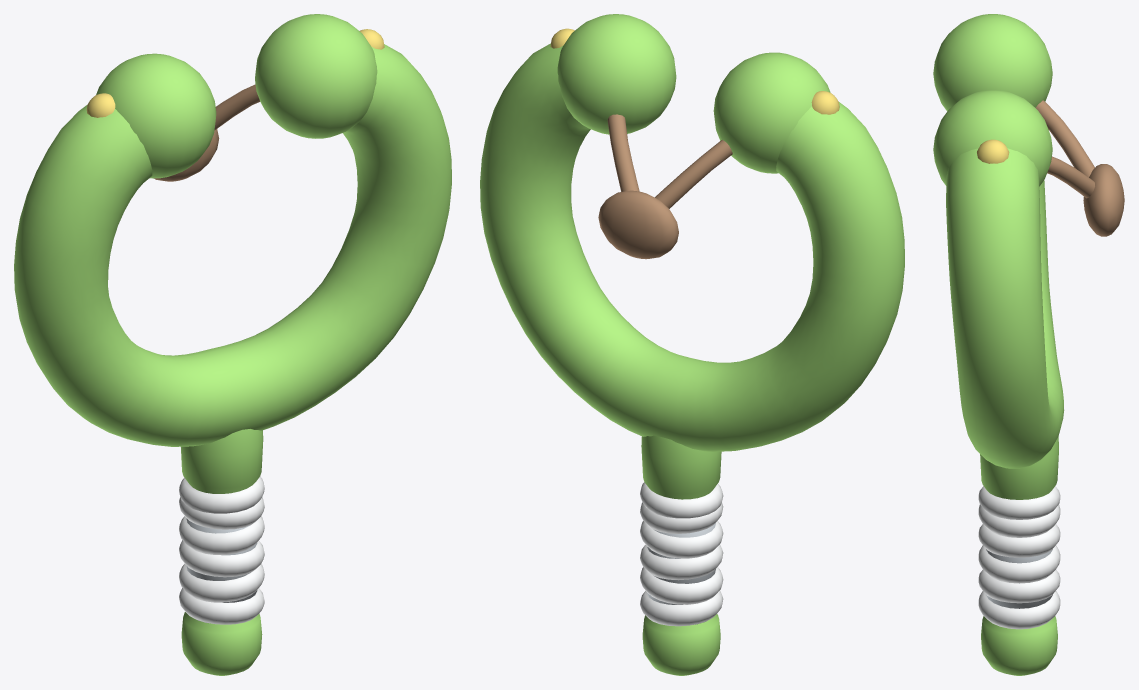
The model's file is Usopp_Slingshot_v2.fbx.
3 views of the same model, side by side, from view 1: azimuth 30°, elevation 25°; view 2: azimuth 150°, elevation 25°; view 3: azimuth 270°, elevation 25° (orthographic). The views are drawn at different scales.
Parts seen in each view (by area): view 1: Usopp_GreenFrame, Usopp_WhiteWrap, Usopp_BrownElastic, Usopp_GoldPins, Usopp_WrapSeam; view 2: Usopp_GreenFrame, Usopp_WhiteWrap, Usopp_BrownElastic, Usopp_GoldPins, Usopp_WrapSeam; view 3: Usopp_GreenFrame, Usopp_WhiteWrap, Usopp_BrownElastic, Usopp_WrapSeam, Usopp_GoldPins.
Boxes of the visible parts, <box> form: Usopp_GreenFrame: <box>14,14,451,675</box>; Usopp_WhiteWrap: <box>179,476,264,624</box>; Usopp_BrownElastic: <box>154,84,260,181</box>; Usopp_GoldPins: <box>86,29,384,117</box>; Usopp_WrapSeam: <box>186,518,257,623</box>; Usopp_GreenFrame: <box>480,14,904,675</box>; Usopp_WhiteWrap: <box>640,482,723,626</box>; Usopp_BrownElastic: <box>598,114,732,259</box>; Usopp_GoldPins: <box>550,28,839,114</box>; Usopp_WrapSeam: <box>647,523,715,624</box>; Usopp_GreenFrame: <box>933,14,1064,675</box>; Usopp_WhiteWrap: <box>978,486,1060,629</box>; Usopp_BrownElastic: <box>1035,100,1124,236</box>; Usopp_WrapSeam: <box>986,549,1052,608</box>; Usopp_GoldPins: <box>977,139,1009,163</box>.
Size of the model in its own units: 1.78 by 2.56 by 0.724.
